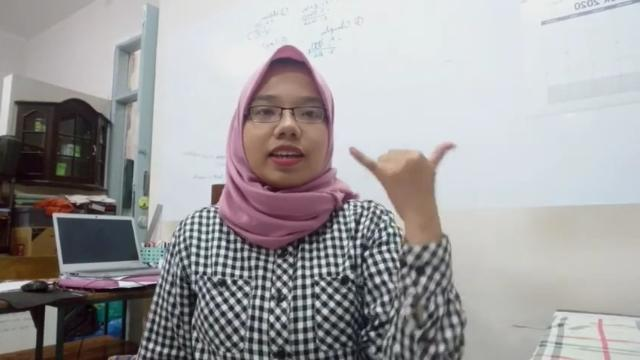Y: (345, 132, 461, 208)
